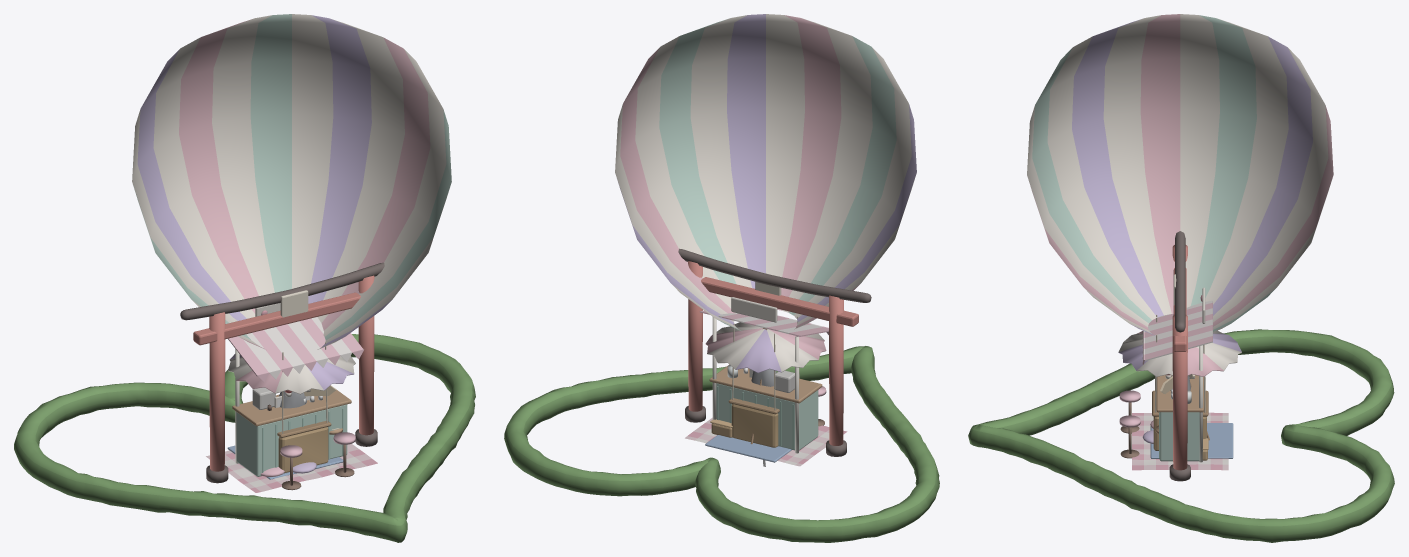
Rendered from props.glb.
3 renders of one model, left to right at view 1: azimuth 30°, elevation 25°; view 2: azimuth 150°, elevation 25°; view 3: azimuth 270°, elevation 25°, orthographic. The views are drawn at different scales.
Visible parts, largest first — view 1: balloon, heart_hedge, kiosk, sakura_arch, umbrella, picnic; view 2: balloon, heart_hedge, sakura_arch, kiosk, umbrella, picnic, training_post; view 3: balloon, heart_hedge, kiosk, sakura_arch, umbrella, picnic, training_post.
Boxes of the visible parts, left/top/right/bottom form: balloon: left=132, top=14, right=451, bottom=473; heart_hedge: left=14, top=334, right=475, bottom=542; kiosk: left=228, top=303, right=363, bottom=490; sakura_arch: left=180, top=262, right=384, bottom=483; umbrella: left=228, top=354, right=355, bottom=394; picnic: left=206, top=443, right=377, bottom=492; balloon: left=615, top=14, right=916, bottom=447; heart_hedge: left=504, top=346, right=939, bottom=542; sakura_arch: left=678, top=248, right=871, bottom=456; kiosk: left=699, top=297, right=828, bottom=453; umbrella: left=705, top=322, right=826, bottom=372; picnic: left=685, top=417, right=847, bottom=466; training_post: left=705, top=435, right=791, bottom=462; balloon: left=1027, top=14, right=1333, bottom=450; heart_hedge: left=968, top=329, right=1394, bottom=542; kiosk: left=1119, top=287, right=1212, bottom=462; sakura_arch: left=1169, top=231, right=1190, bottom=481; umbrella: left=1118, top=330, right=1241, bottom=376; picnic: left=1132, top=412, right=1228, bottom=470; training_post: left=1150, top=374, right=1233, bottom=458.
Bounding box in the file's own units: 8.02 × 8.2 × 7.24.
